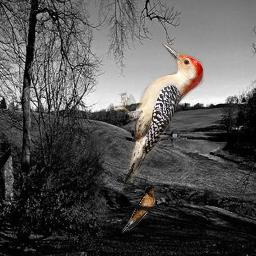Swallow: (120, 185, 157, 233)
Woodpecker: (108, 42, 206, 188)
